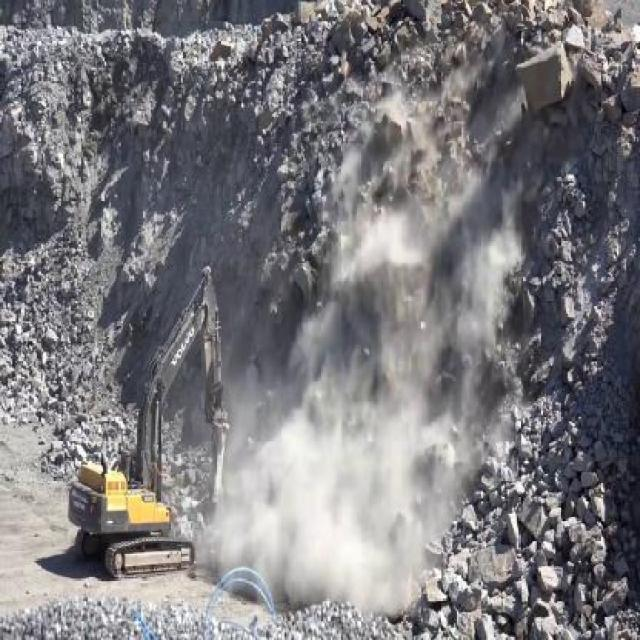Excavator: (55, 263, 232, 577)
